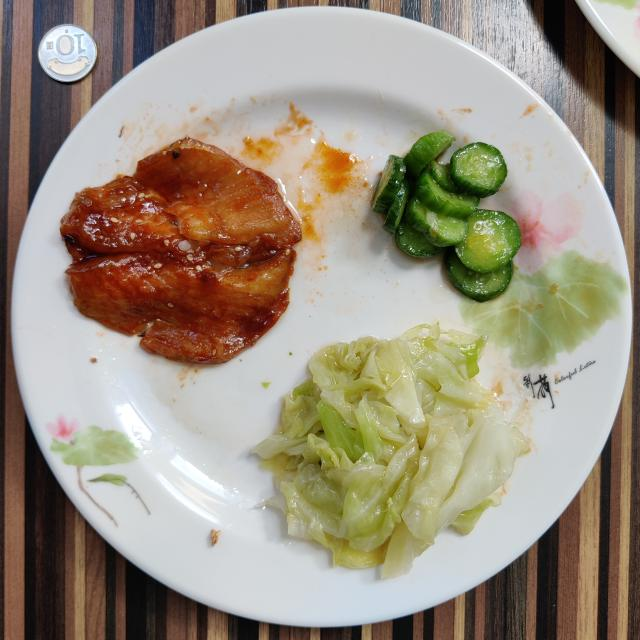Kabayaki sea bream fillet: (60, 139, 301, 364)
cabbage: (254, 324, 529, 578)
coin: (39, 24, 98, 82)
cucumber: (372, 131, 521, 301)
